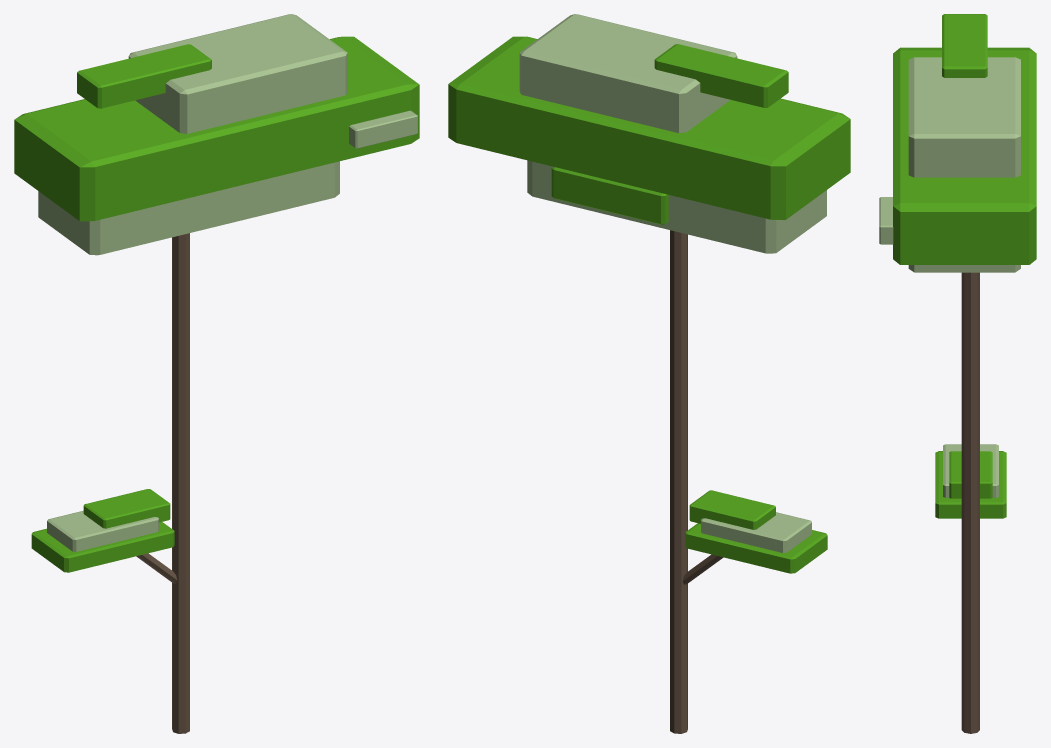
File: Isl_17_Tree_2.fbx
3 views of the same model, side by side, from view 1: azimuth 30°, elevation 25°; view 2: azimuth 150°, elevation 25°; view 3: azimuth 270°, elevation 25° (orthographic).
Parts seen in each view (by area): view 1: Isl_17_Tree_2; view 2: Isl_17_Tree_2; view 3: Isl_17_Tree_2.
Boxes of the visible parts, x1=… form: Isl_17_Tree_2: x1=14, y1=14, x2=419, y2=733; Isl_17_Tree_2: x1=448, y1=14, x2=850, y2=733; Isl_17_Tree_2: x1=879, y1=14, x2=1036, y2=733.
Size of the model in its own units: 637 by 258 by 1213.
1 material, 1 textured.
